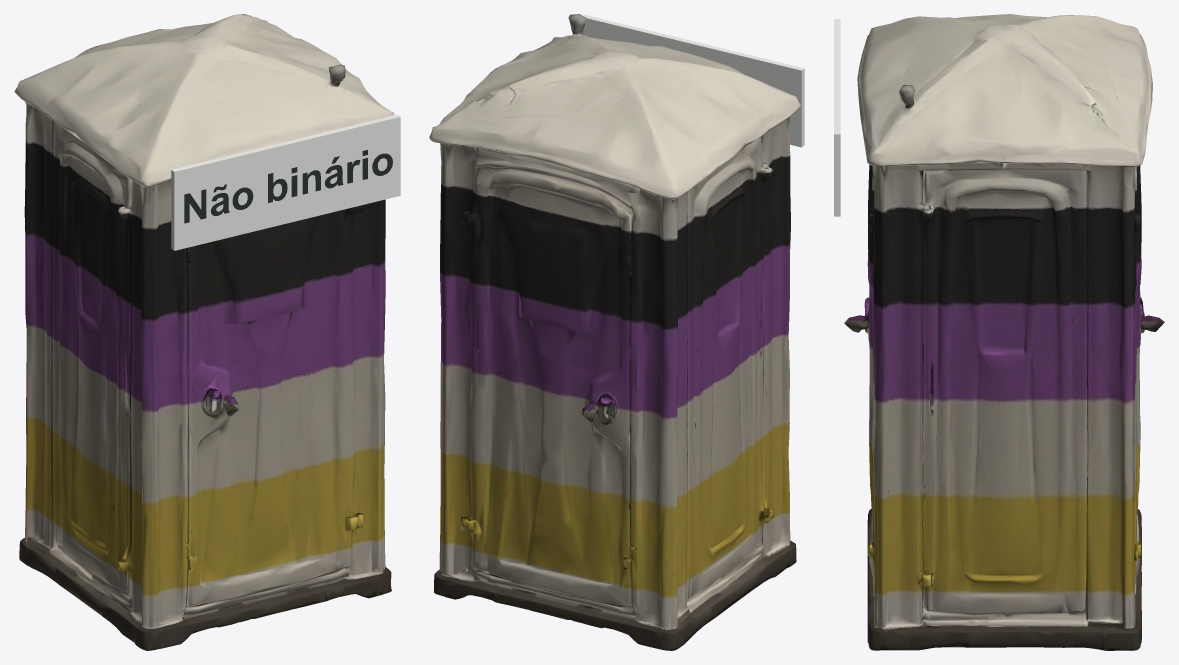
The model's file is toilet-nao-binario.glb.
3 renders of one model, left to right at view 1: azimuth 30°, elevation 25°; view 2: azimuth 150°, elevation 25°; view 3: azimuth 270°, elevation 25°, orthographic. The views are drawn at different scales.
Parts seen in each view (by area): view 1: tripo_node_60a4deb6-5a27-47ab-872c-550047519718, Readable_Gender_Plate, Gender_Label; view 2: tripo_node_60a4deb6-5a27-47ab-872c-550047519718, Readable_Gender_Plate; view 3: tripo_node_60a4deb6-5a27-47ab-872c-550047519718, Readable_Gender_Plate.
Part boxes in pixels (left/top/right/bottom): tripo_node_60a4deb6-5a27-47ab-872c-550047519718: left=14, top=14, right=394, bottom=650; Readable_Gender_Plate: left=171, top=114, right=400, bottom=250; Gender_Label: left=184, top=150, right=392, bottom=223; tripo_node_60a4deb6-5a27-47ab-872c-550047519718: left=429, top=14, right=801, bottom=650; Readable_Gender_Plate: left=583, top=14, right=804, bottom=147; tripo_node_60a4deb6-5a27-47ab-872c-550047519718: left=844, top=14, right=1164, bottom=650; Readable_Gender_Plate: left=834, top=19, right=840, bottom=216.
Size of the model in its own units: 1.2 by 2.3 by 1.24.
3 materials, 1 textured.
